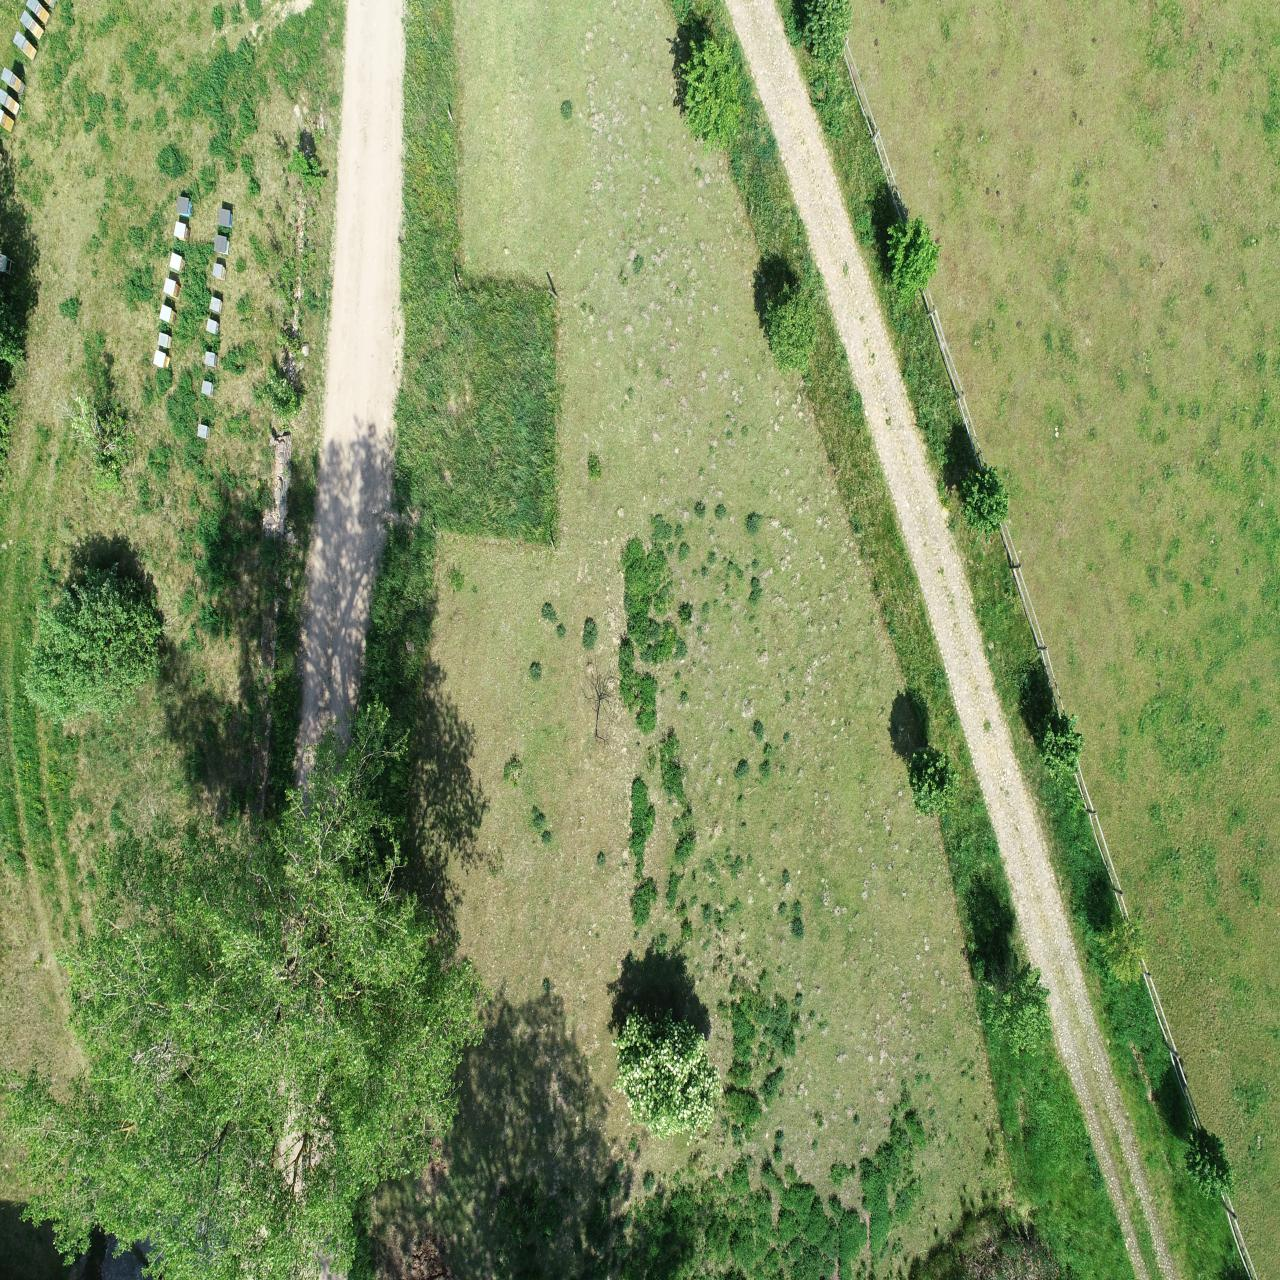cow: (735, 762, 760, 831), (1029, 1108, 1054, 1165), (715, 972, 737, 1033), (656, 689, 680, 745), (633, 308, 655, 365), (727, 1035, 745, 1092), (870, 293, 887, 354), (894, 124, 912, 184), (860, 413, 878, 471), (829, 662, 850, 710), (792, 433, 809, 490), (842, 233, 858, 291), (871, 614, 887, 668), (804, 293, 821, 343), (790, 578, 803, 628), (809, 559, 825, 594)
